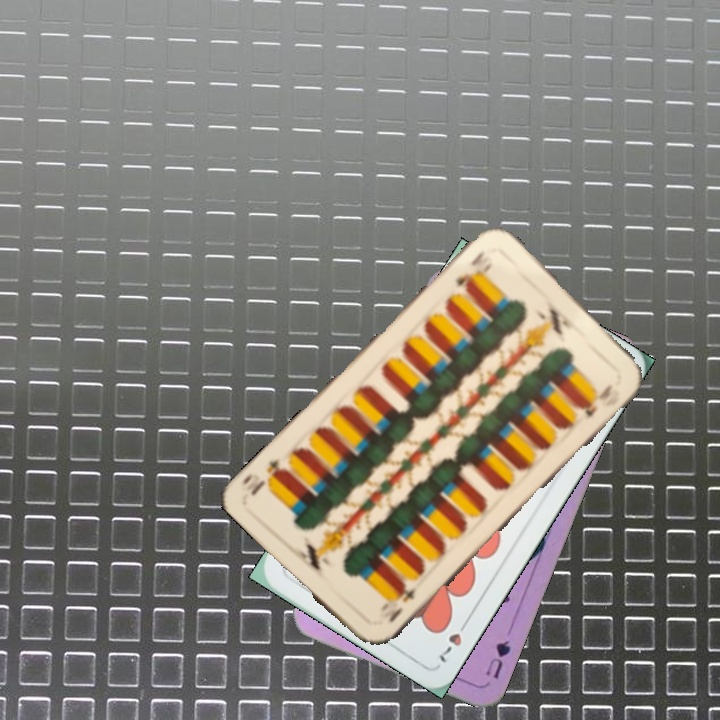E10: (376, 580, 418, 626), (451, 246, 488, 292)
GU: (481, 636, 513, 682)
H7: (435, 614, 473, 666)
